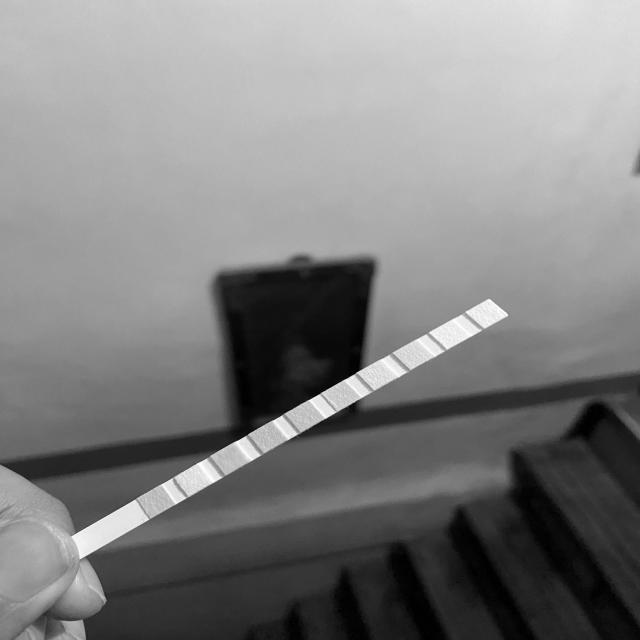Bilirubin: (184, 472, 204, 489)
Blood: (294, 408, 316, 425)
Glucose: (147, 492, 167, 510)
Ketone: (220, 449, 240, 467)
Leukocytes: (475, 306, 500, 321)
Nitrite: (439, 327, 460, 342)
Protein: (368, 366, 388, 383)
SpGravity: (257, 429, 280, 445)
Urobilinogen: (403, 347, 424, 362)
background: (0, 0, 640, 640)
pH: (331, 388, 352, 403)
strip: (74, 299, 509, 552)
